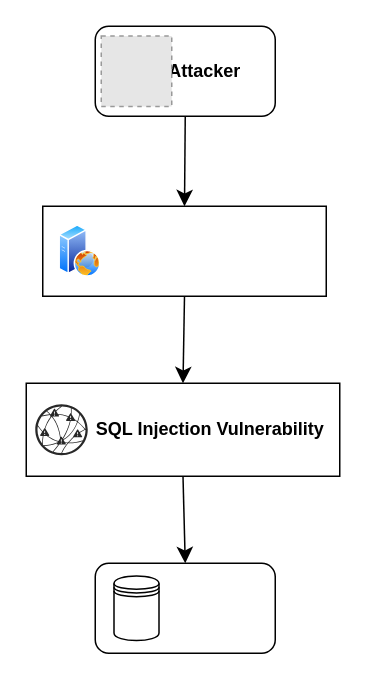
The diagram is 366 pixels wide and 680 high, and some of its shapes have lost their labels. Grey dashed boxes stand in for pictures. The shapes that lost their labels are listed below. From the top down, each one's box as (x1, y1, x2, y2) in pixels, then its label:
(41, 205, 326, 296): Web Application(DVWA)
(94, 562, 275, 653): Database
